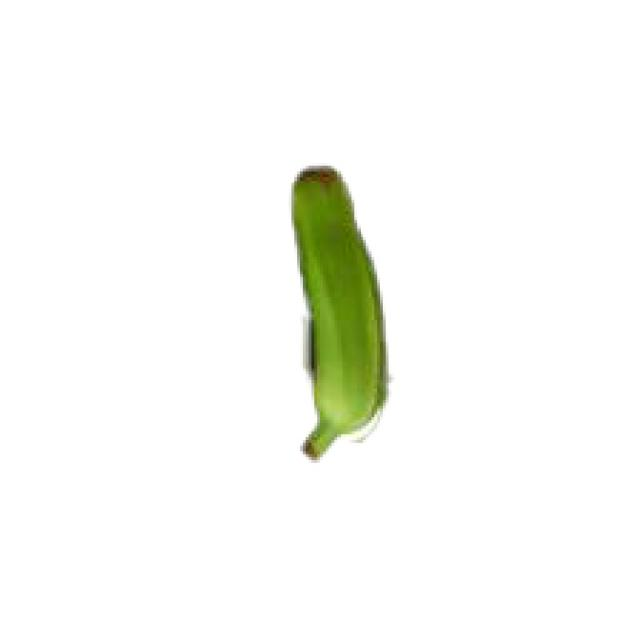fresh-banana: (288, 163, 388, 460)
